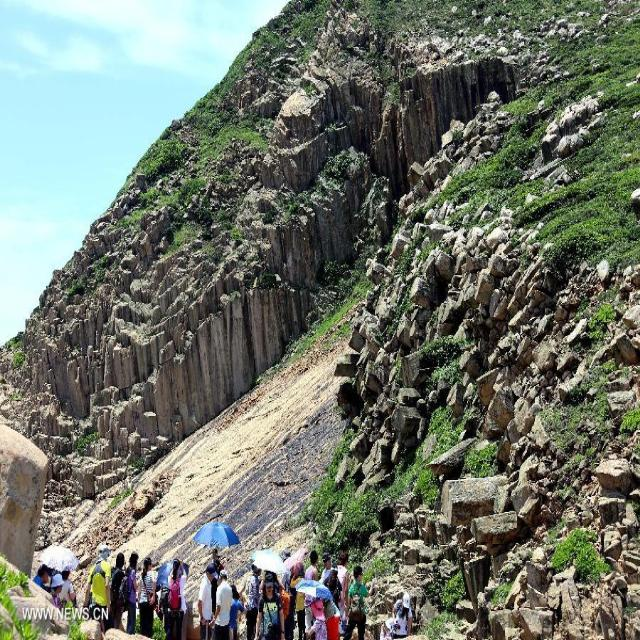body: (82, 543, 112, 634), (344, 564, 376, 640), (276, 545, 300, 640), (254, 571, 286, 640), (118, 550, 140, 636), (165, 557, 188, 639), (135, 555, 157, 639), (208, 567, 233, 640), (196, 562, 217, 640), (303, 549, 321, 640), (243, 566, 264, 639), (110, 552, 128, 630), (334, 549, 351, 619), (322, 561, 344, 612), (391, 592, 414, 640), (205, 562, 219, 640), (156, 550, 169, 632), (289, 561, 302, 640), (307, 599, 329, 640), (49, 572, 68, 615), (58, 566, 78, 604), (324, 599, 342, 640), (201, 547, 228, 573), (41, 560, 61, 594), (32, 563, 53, 594), (319, 552, 337, 584), (238, 579, 250, 625), (378, 614, 396, 640), (248, 562, 264, 587), (264, 565, 277, 575), (230, 586, 237, 594)
